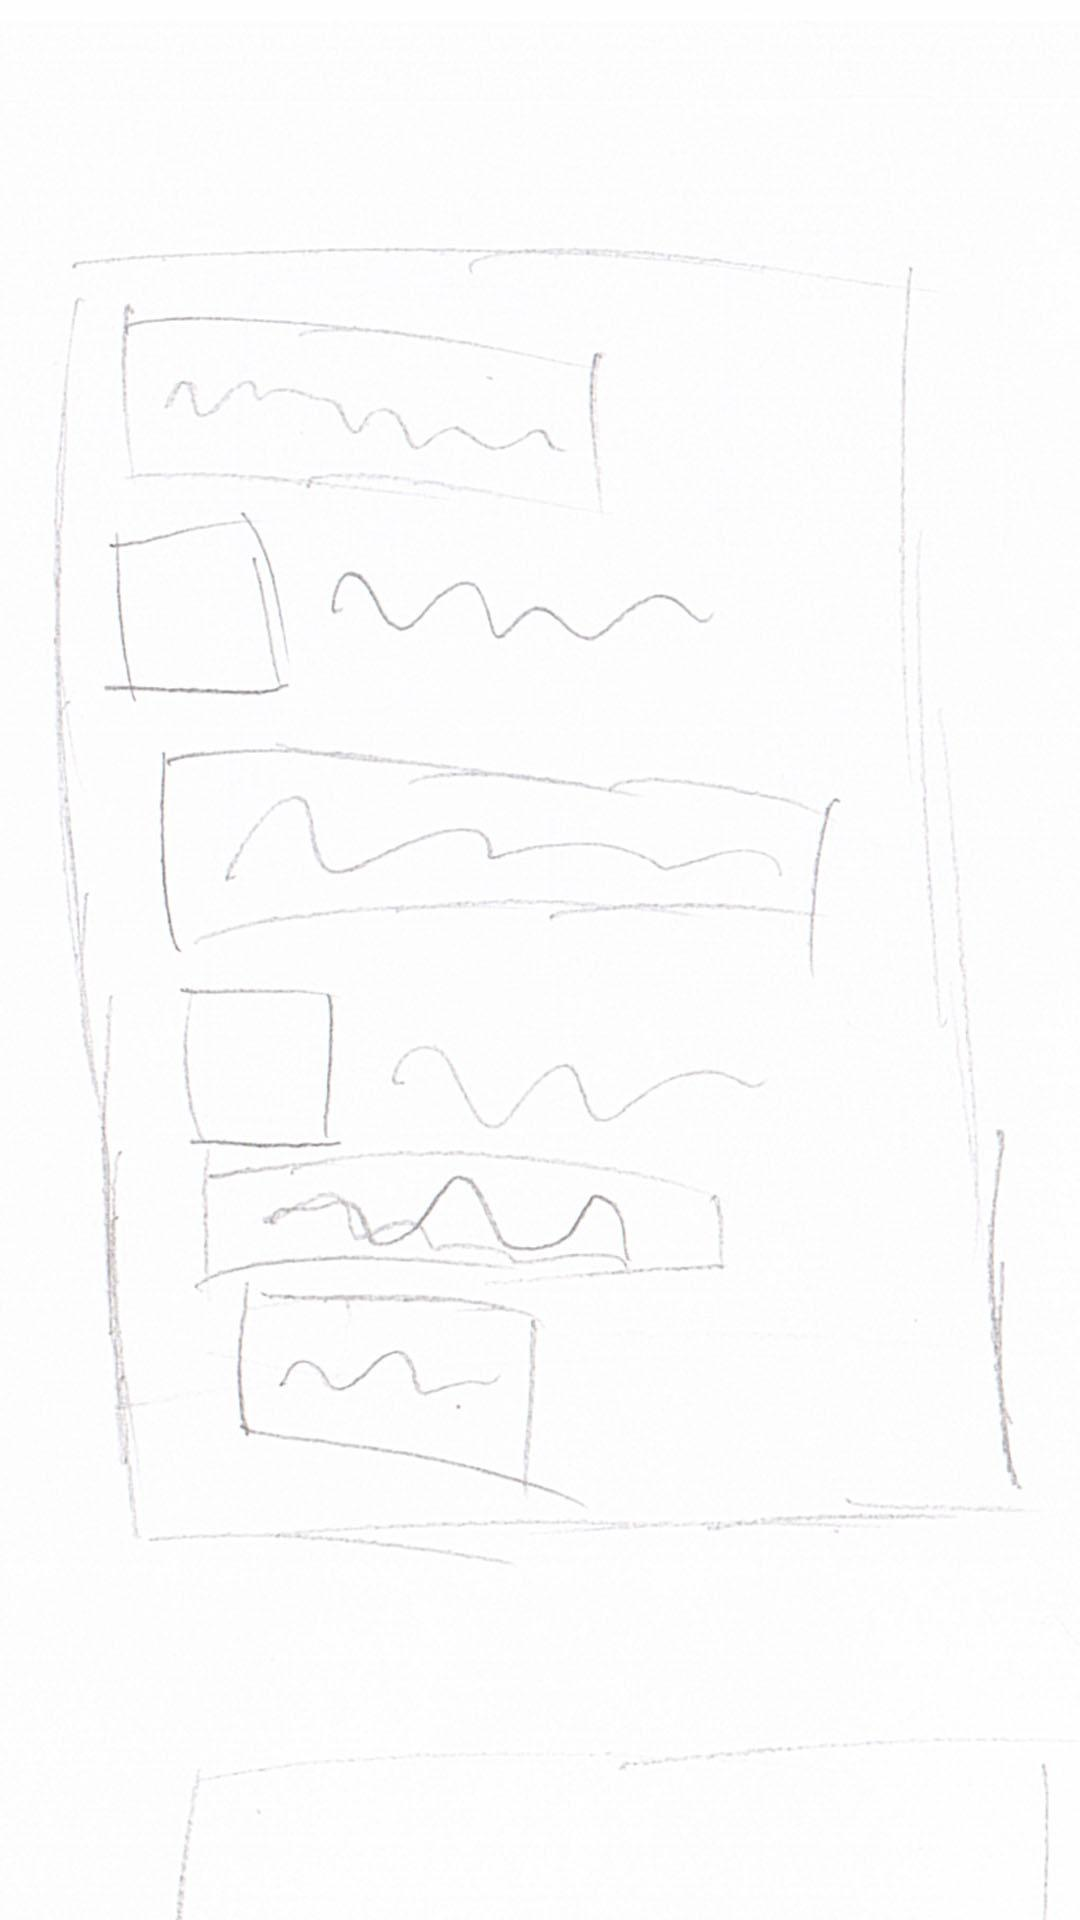Button: (160, 749, 837, 959), (125, 313, 605, 522), (199, 1159, 724, 1286), (236, 1288, 534, 1482)
CheckBox: (117, 513, 719, 698), (185, 984, 773, 1149)
Screen: (55, 243, 1015, 1540)
